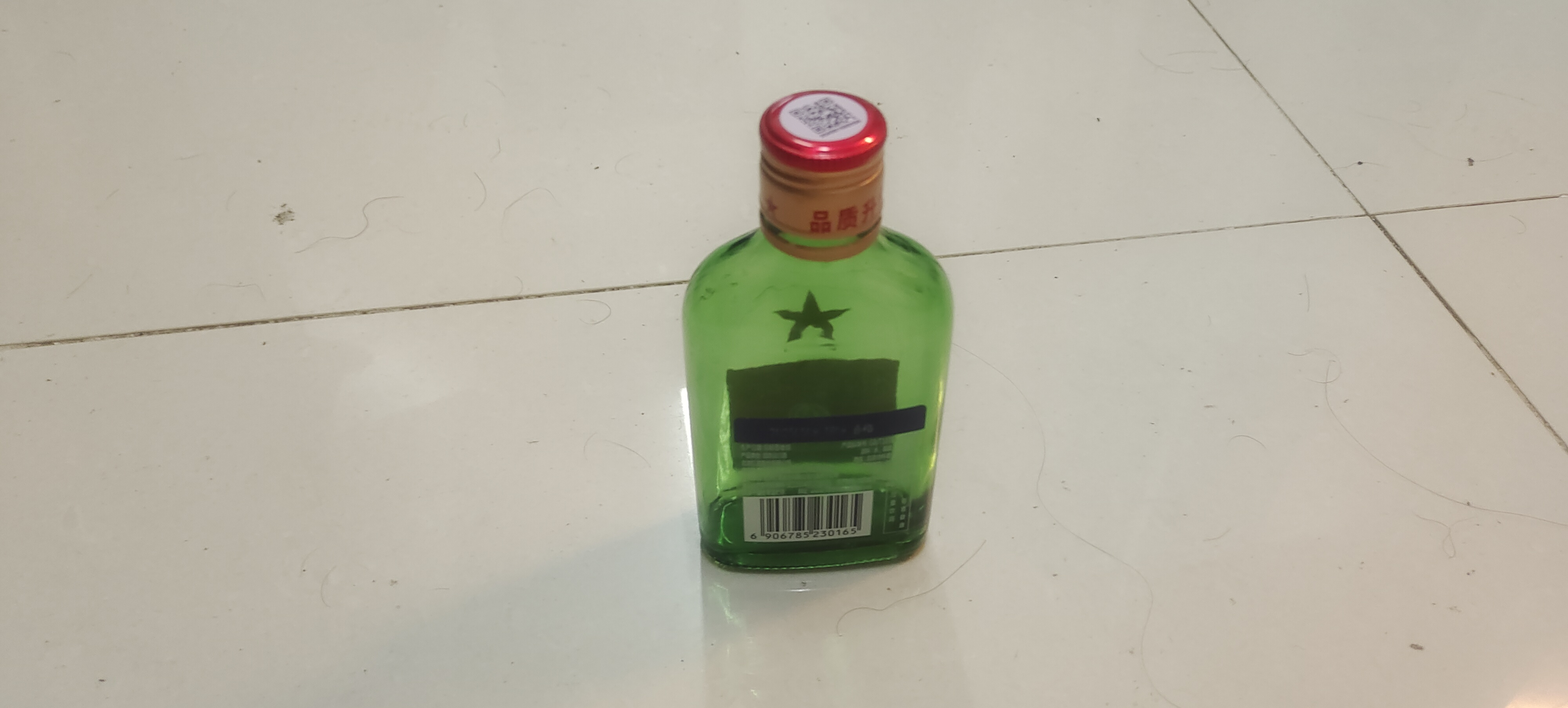redbull: (524, 124, 1200, 594)
